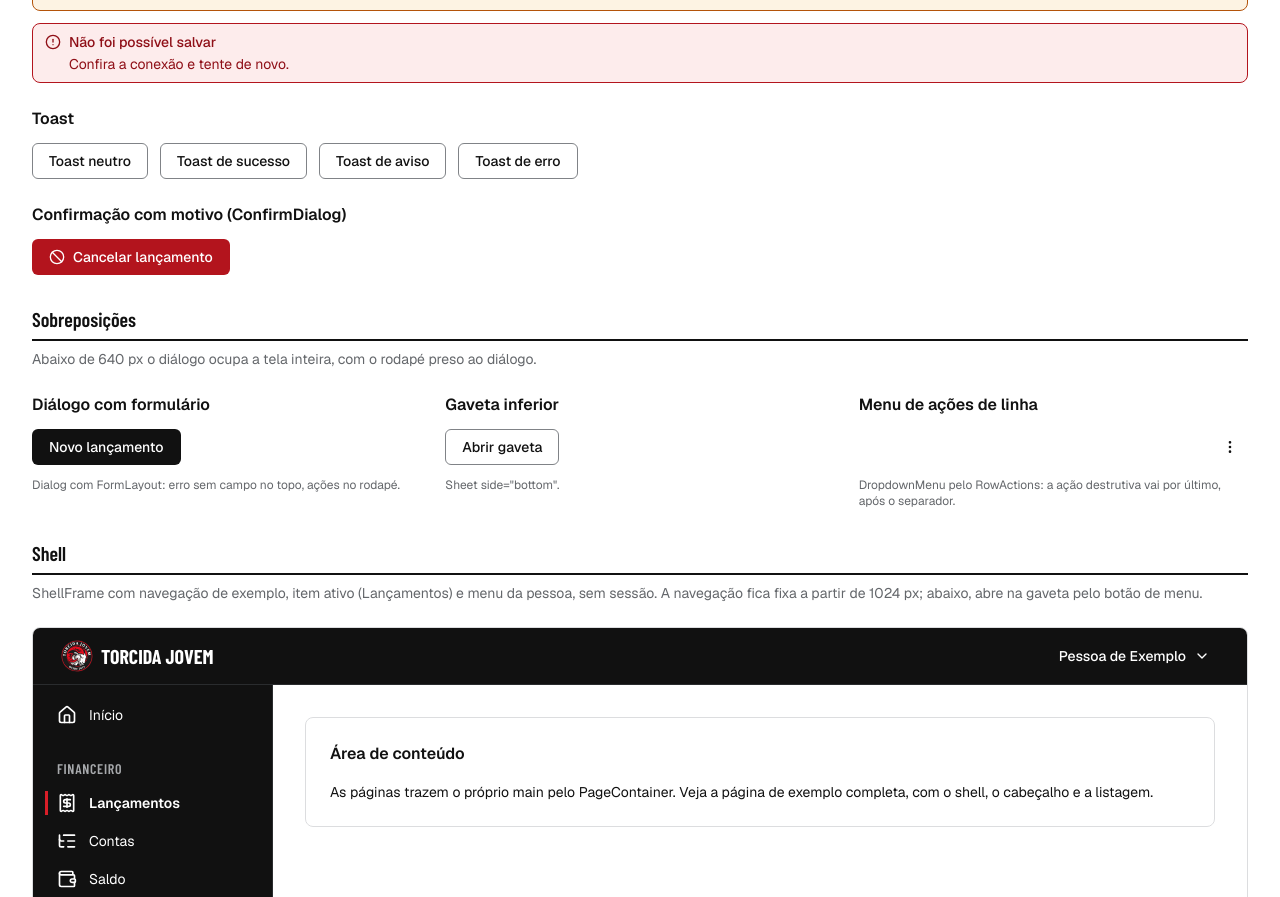
Test: sobreposições › a gaveta inferior e o menu de ações de linha abrem
The image size is (1280, 897).
(page scrolled)
Click the button "Abrir gaveta" at (502, 447), box top-left (445, 429), bottom-right (559, 465)
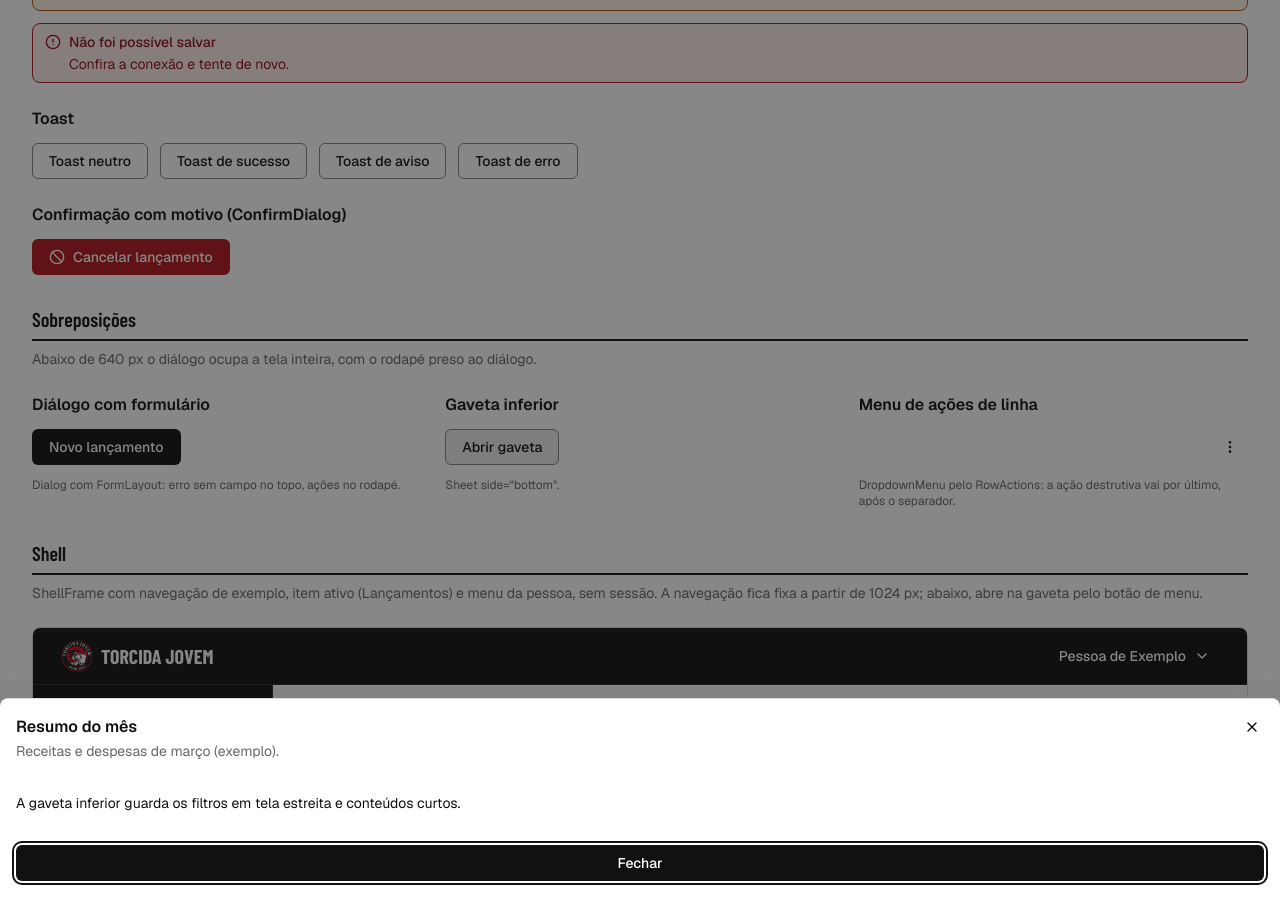
Press Escape in the dialog "Resumo do mês", box top-left (0, 698), bottom-right (1279, 896)
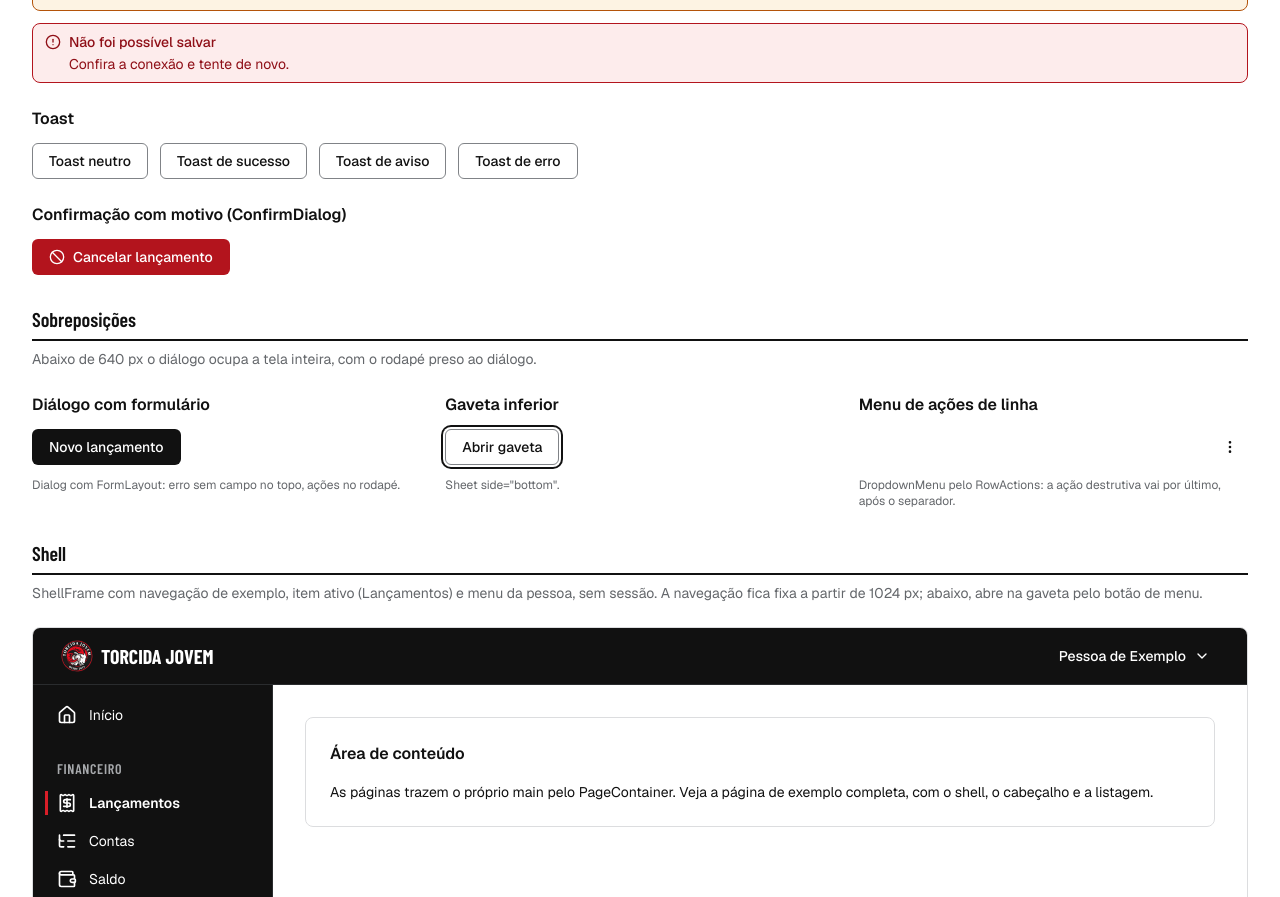
Expected: the heading "Resumo do mês" is gone
Click the button named "Ações de lançamento Venda de bonés" at (1230, 447), box top-left (1212, 429), bottom-right (1248, 465)
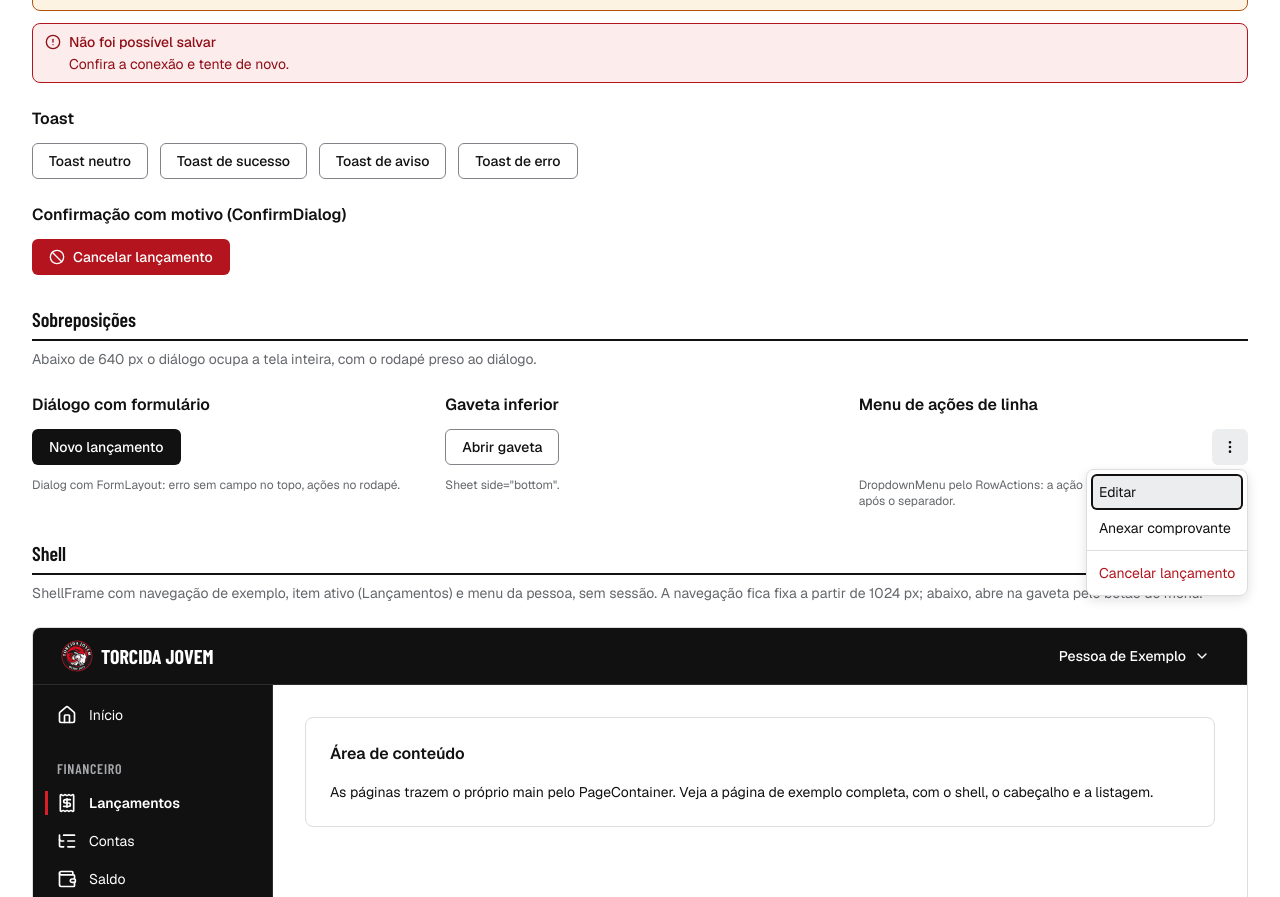
Expected: the menu items read "Editar", "Anexar comprovante", "Cancelar lançamento", in this order, top-left (1091, 474), bottom-right (1243, 510); top-left (1099, 519), bottom-right (1231, 537); top-left (1099, 564), bottom-right (1235, 582)
